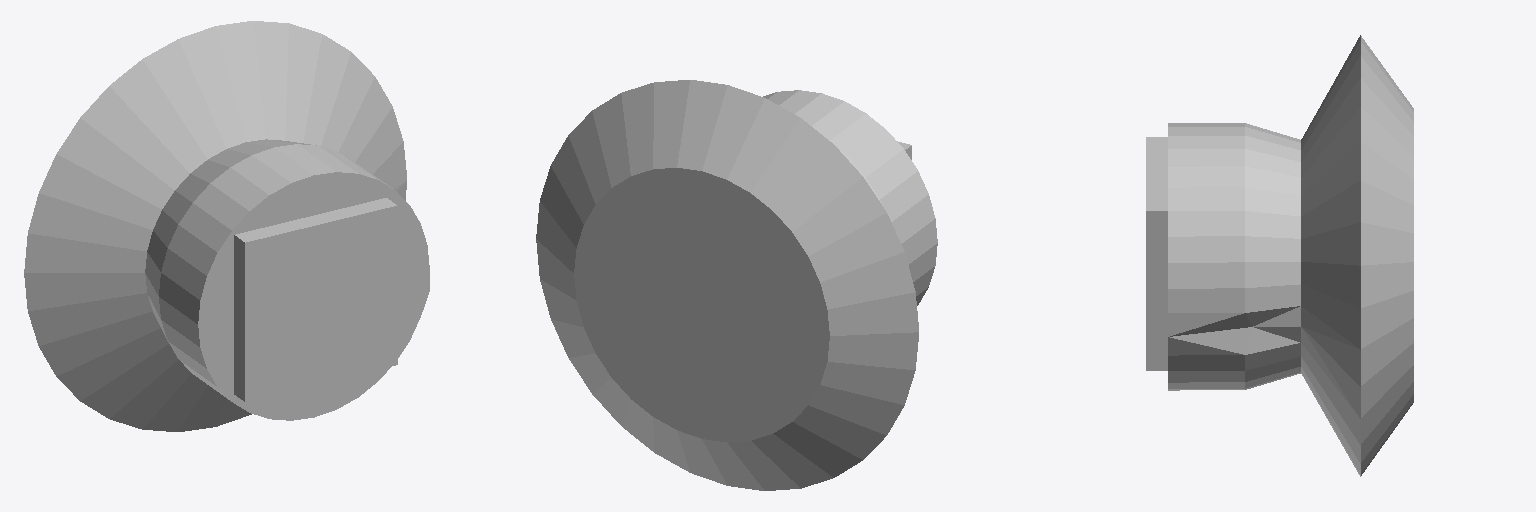
Rendered from knob.obj.
3 views of the same model, side by side, from view 1: azimuth 30°, elevation 25°; view 2: azimuth 150°, elevation 25°; view 3: azimuth 270°, elevation 25° (orthographic).
Size of the model in its own units: 4.05 by 4.05 by 2.45.